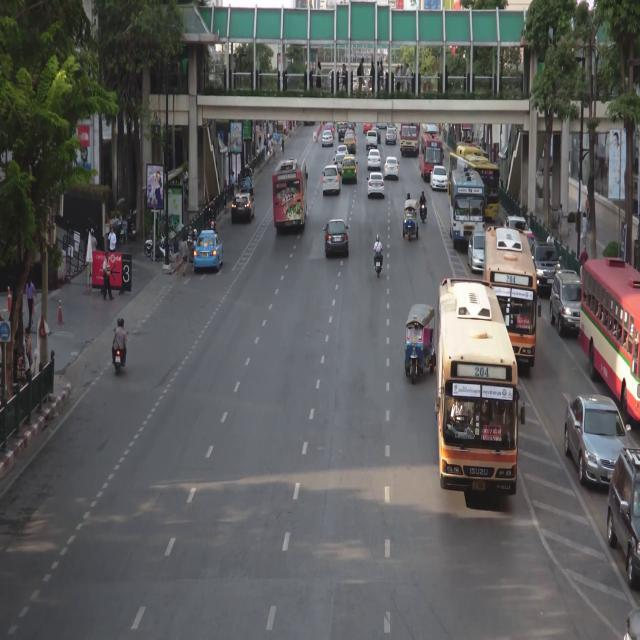bus: (438, 281, 517, 494), (582, 258, 640, 421), (485, 227, 535, 371), (450, 150, 498, 224), (451, 172, 484, 245), (274, 161, 307, 229), (421, 135, 443, 180), (401, 123, 420, 155)
car: (567, 397, 628, 486), (610, 452, 640, 583), (405, 304, 434, 381), (553, 267, 584, 333), (533, 243, 560, 294), (324, 217, 349, 258), (468, 229, 484, 273), (231, 192, 256, 220), (403, 200, 418, 240), (323, 166, 340, 192), (367, 174, 385, 198), (431, 166, 448, 190), (384, 157, 398, 179), (507, 217, 528, 231), (368, 148, 381, 170), (240, 168, 252, 191), (386, 127, 397, 143), (334, 155, 347, 168), (424, 125, 439, 136), (366, 132, 377, 147), (339, 124, 348, 139), (337, 145, 349, 156), (323, 131, 333, 144), (373, 128, 381, 143), (363, 122, 373, 132), (325, 123, 333, 132)
pedestrian: (25, 277, 35, 332), (103, 254, 113, 300), (25, 327, 33, 369), (181, 235, 188, 277), (580, 245, 588, 279), (582, 211, 587, 251), (109, 225, 116, 253), (558, 203, 563, 240), (90, 228, 96, 251), (184, 177, 189, 202), (230, 172, 234, 196), (224, 180, 227, 208), (547, 232, 554, 243), (281, 135, 285, 153), (273, 142, 276, 163), (184, 169, 188, 184), (268, 139, 271, 156), (270, 134, 273, 150), (259, 129, 262, 145), (256, 145, 259, 154)
taxi: (195, 230, 223, 269), (342, 158, 356, 183), (344, 135, 355, 154)
